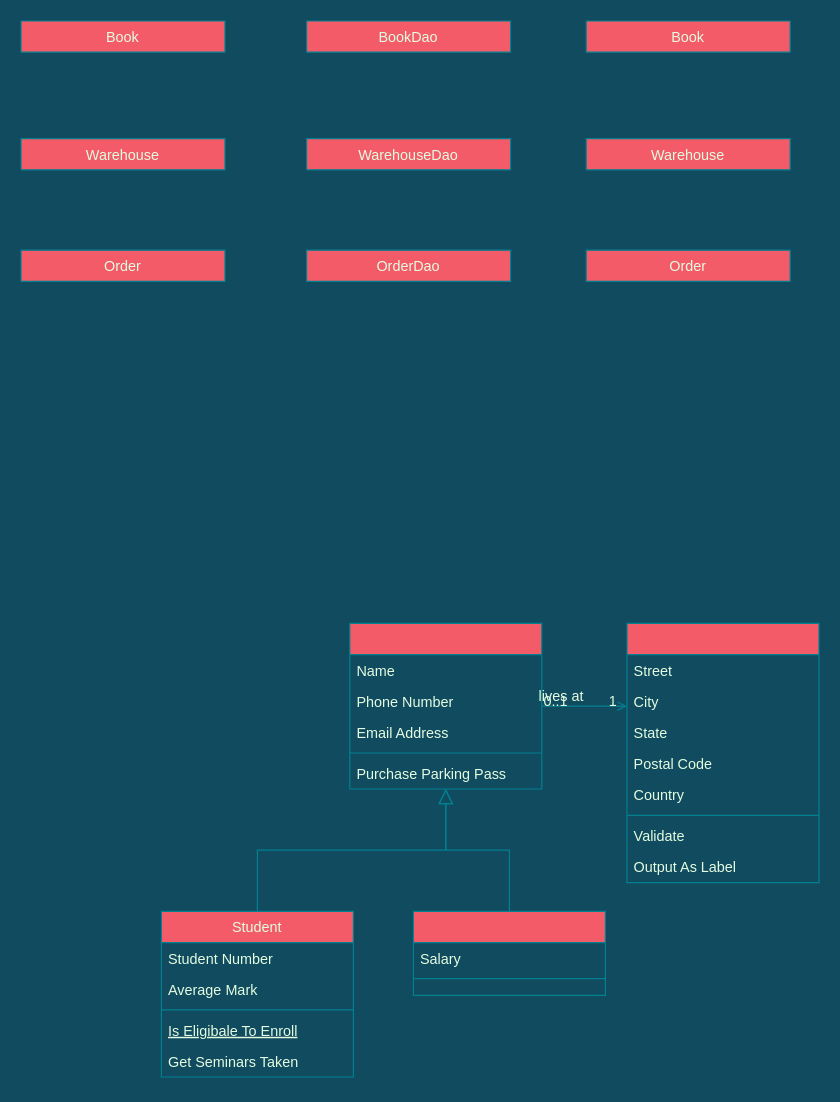
This 840x1102 diagram has some shape labels left out. Here are the shapes that lost their labels. From the top down, the box of each, then its label:
(349, 622, 542, 789): Person
(626, 622, 819, 883): Address
(412, 910, 605, 995): Professor
